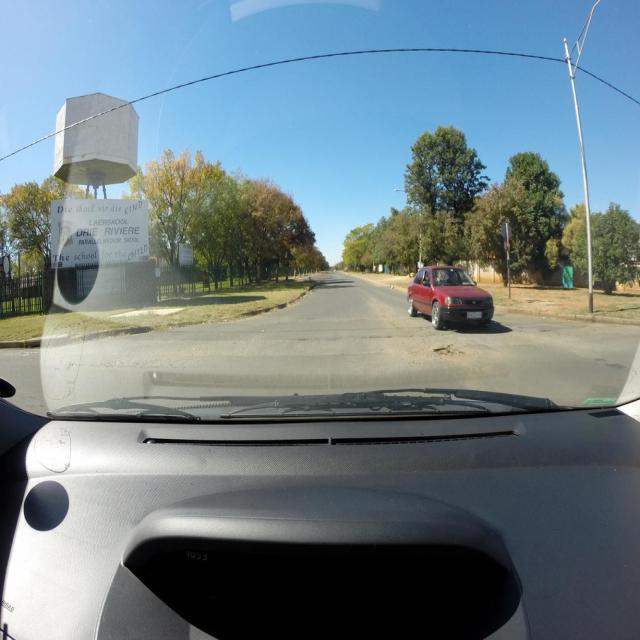Pothole: (432, 343, 465, 356)
